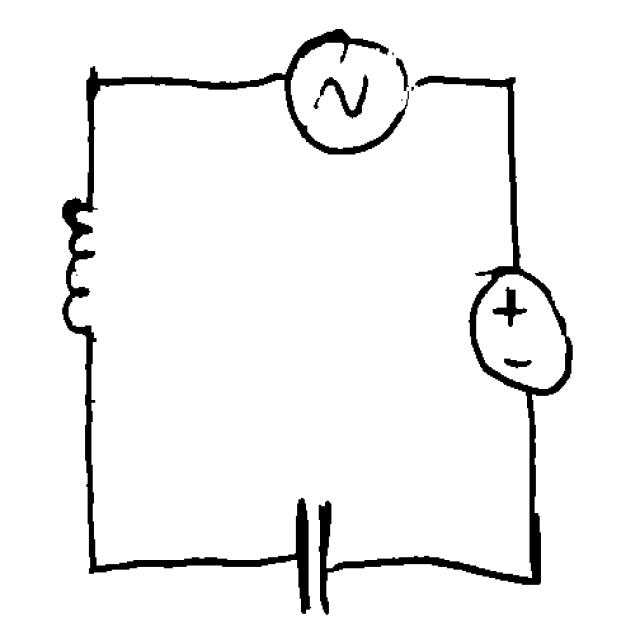ac: (281, 22, 416, 161)
capacitor: (284, 480, 346, 630)
dc: (462, 252, 580, 407)
inductor: (49, 184, 112, 367)
